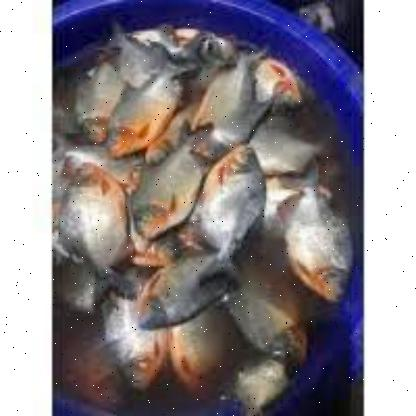ikan-pacu: (103, 58, 188, 154), (60, 158, 126, 276), (292, 183, 354, 299), (201, 139, 263, 253)
